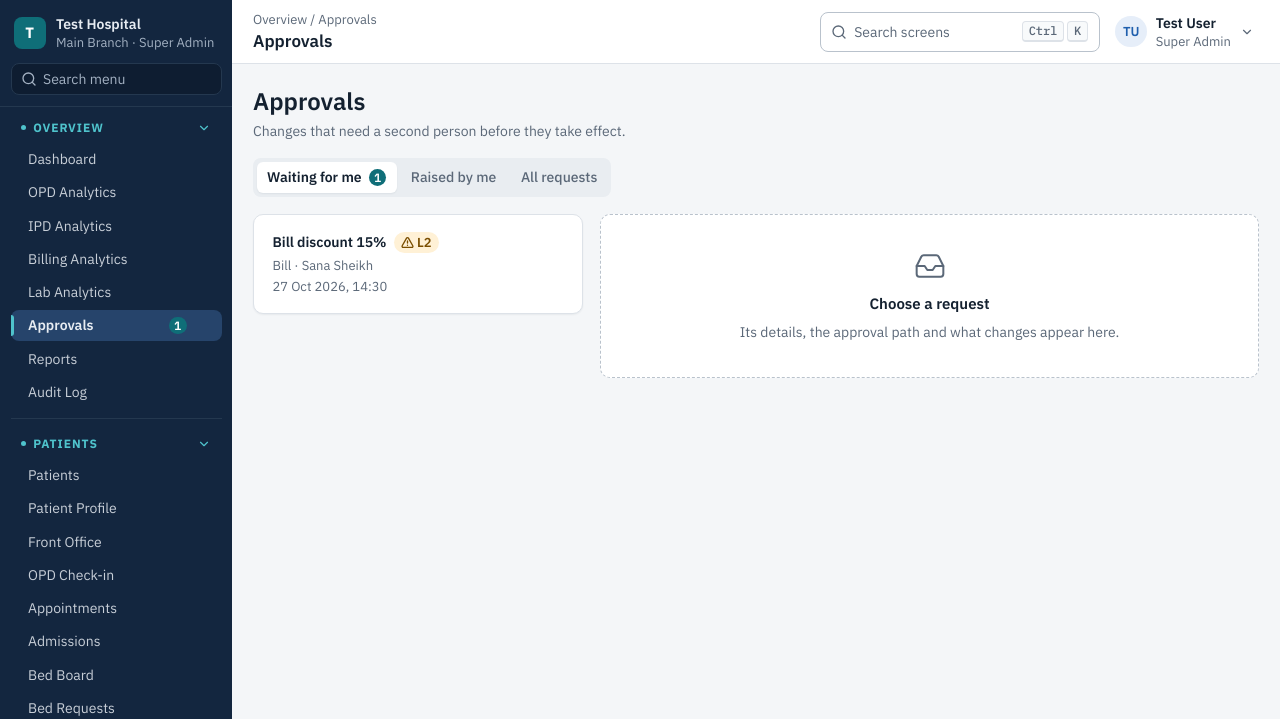
Test case: Approvals inbox › shows the approval path, what changes, the reason and the expiry
The image size is (1280, 719).
Click the button "Bill discount 15% L2 Bill · Sana Sheikh 27 Oct 2026, 14:30": coordinates (330, 242) left=261, top=222, right=574, bottom=306
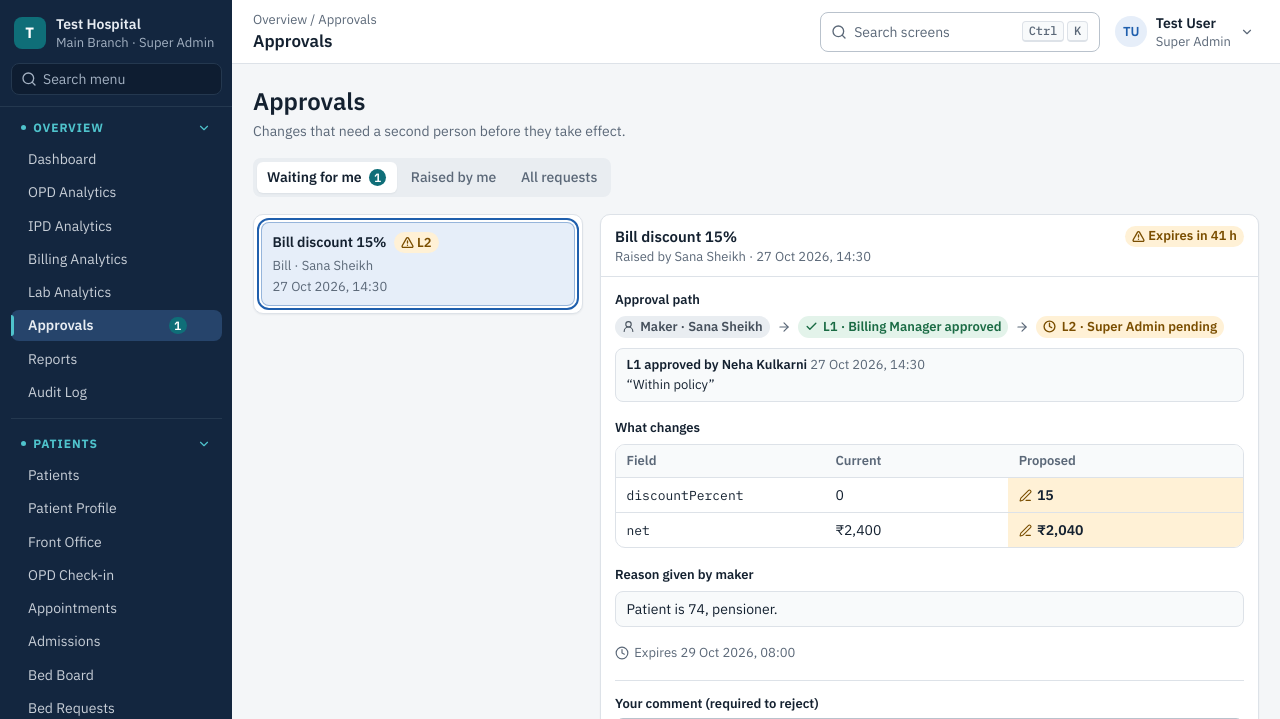
Now the text "Expires in 41 h" is shown, box left=1148, top=227, right=1237, bottom=245
Now the list named "Approval path" shows "Maker · Sana Sheikh", box left=640, top=318, right=763, bottom=335
Now the list named "Approval path" shows "L1 · Billing Manager approved", box left=823, top=318, right=1002, bottom=335
